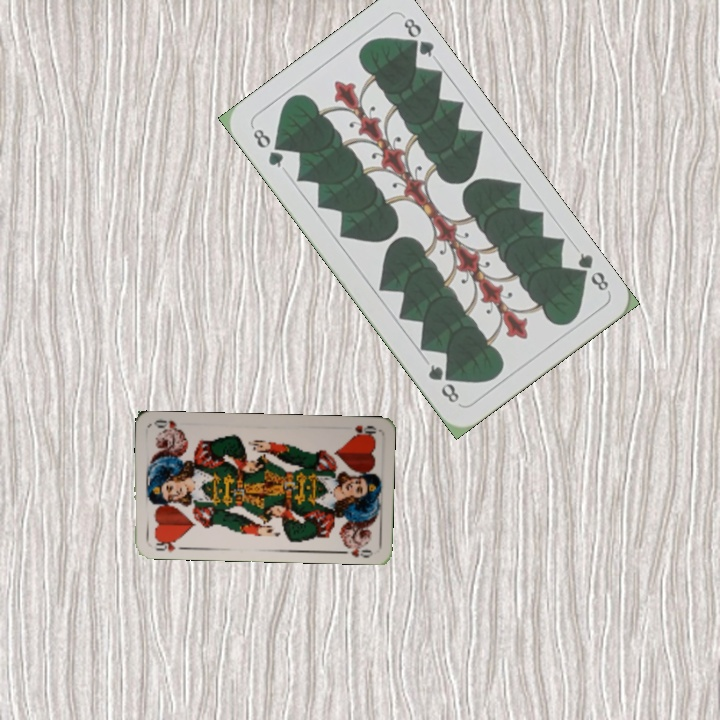G8: (570, 248, 612, 294), (248, 122, 287, 171)
HO: (150, 535, 184, 554), (349, 421, 378, 439)
